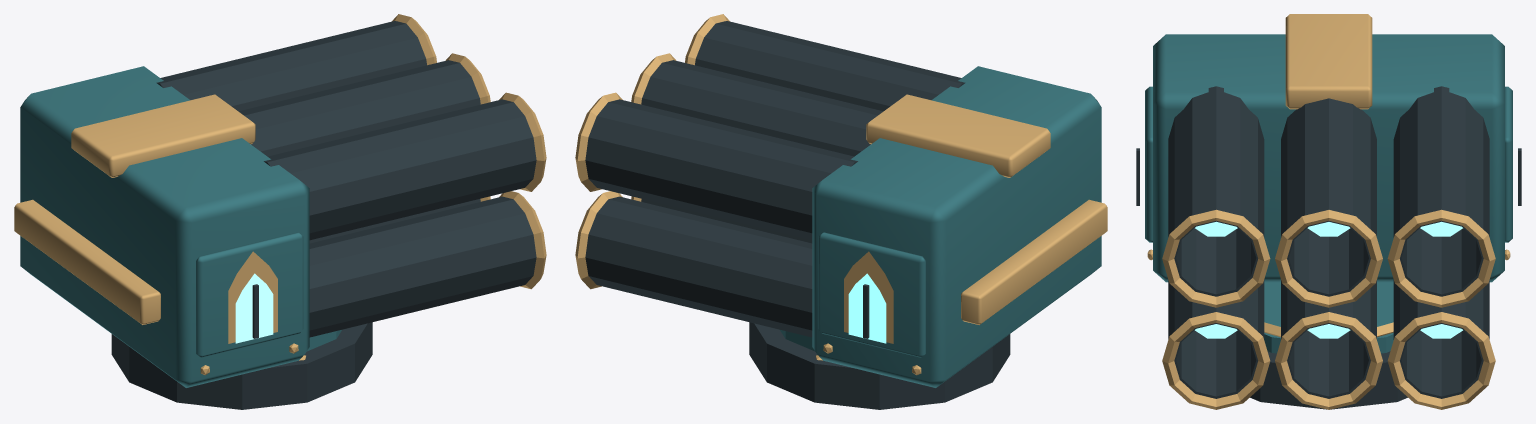
The model's file is evolution-torpedo-swarm.glb.
3 views of the same model, side by side, from view 1: azimuth 30°, elevation 25°; view 2: azimuth 150°, elevation 25°; view 3: azimuth 270°, elevation 25° (orthographic). The views are drawn at different scales.
Parts seen in each view (by area): view 1: evolution-torpedo-swarm / Structure | armory dark pressure s, evolution-torpedo-swarm / Paint | armory deep Hanseatic enam, evolution-torpedo-swarm / Brass | armory machined champagne , Runtime recoil X | evolution-torpedo-swarm, evolution-torpedo-swarm / Lamp | armory pale electric mint; view 2: evolution-torpedo-swarm / Structure | armory dark pressure s, evolution-torpedo-swarm / Paint | armory deep Hanseatic enam, evolution-torpedo-swarm / Brass | armory machined champagne , Runtime recoil X | evolution-torpedo-swarm, evolution-torpedo-swarm / Lamp | armory pale electric mint; view 3: evolution-torpedo-swarm / Structure | armory dark pressure s, evolution-torpedo-swarm / Paint | armory deep Hanseatic enam, evolution-torpedo-swarm / Brass | armory machined champagne , evolution-torpedo-swarm / Lamp | armory pale electric mint.
Part boxes in pixels (x1,y1,x2,y2): evolution-torpedo-swarm / Structure | armory dark pressure s: (111, 21, 536, 409); evolution-torpedo-swarm / Paint | armory deep Hanseatic enam: (20, 66, 341, 387); evolution-torpedo-swarm / Brass | armory machined champagne : (71, 14, 546, 375); Runtime recoil X | evolution-torpedo-swarm: (14, 199, 160, 324); evolution-torpedo-swarm / Lamp | armory pale electric mint: (235, 273, 273, 343); evolution-torpedo-swarm / Structure | armory dark pressure s: (585, 21, 1010, 409); evolution-torpedo-swarm / Paint | armory deep Hanseatic enam: (780, 66, 1101, 387); evolution-torpedo-swarm / Brass | armory machined champagne : (575, 14, 1050, 375); Runtime recoil X | evolution-torpedo-swarm: (961, 199, 1107, 324); evolution-torpedo-swarm / Lamp | armory pale electric mint: (848, 273, 886, 343); evolution-torpedo-swarm / Structure | armory dark pressure s: (1136, 86, 1521, 409); evolution-torpedo-swarm / Paint | armory deep Hanseatic enam: (1145, 34, 1512, 353); evolution-torpedo-swarm / Brass | armory machined champagne : (1147, 14, 1510, 409); evolution-torpedo-swarm / Lamp | armory pale electric mint: (1195, 221, 1462, 338).
Bounding box in the file's own units: 2.75 × 1.67 × 2.22.
